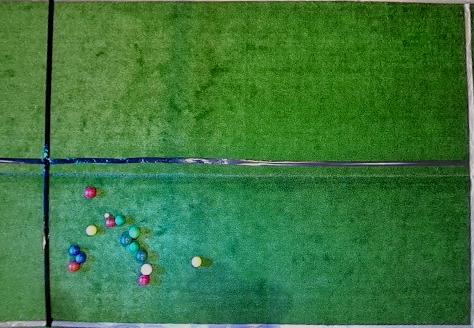blue: (68, 245, 80, 256), (75, 253, 86, 263)
green: (129, 227, 140, 239), (136, 250, 148, 261), (121, 234, 132, 245), (115, 215, 126, 225), (129, 242, 140, 252)
red: (84, 187, 96, 199), (138, 275, 150, 286), (68, 262, 80, 273), (141, 264, 152, 275), (105, 217, 115, 228)
vline: (1, 0, 54, 327), (461, 0, 473, 328)
white: (104, 213, 109, 217)
yellow: (86, 225, 97, 236), (191, 257, 202, 267)
